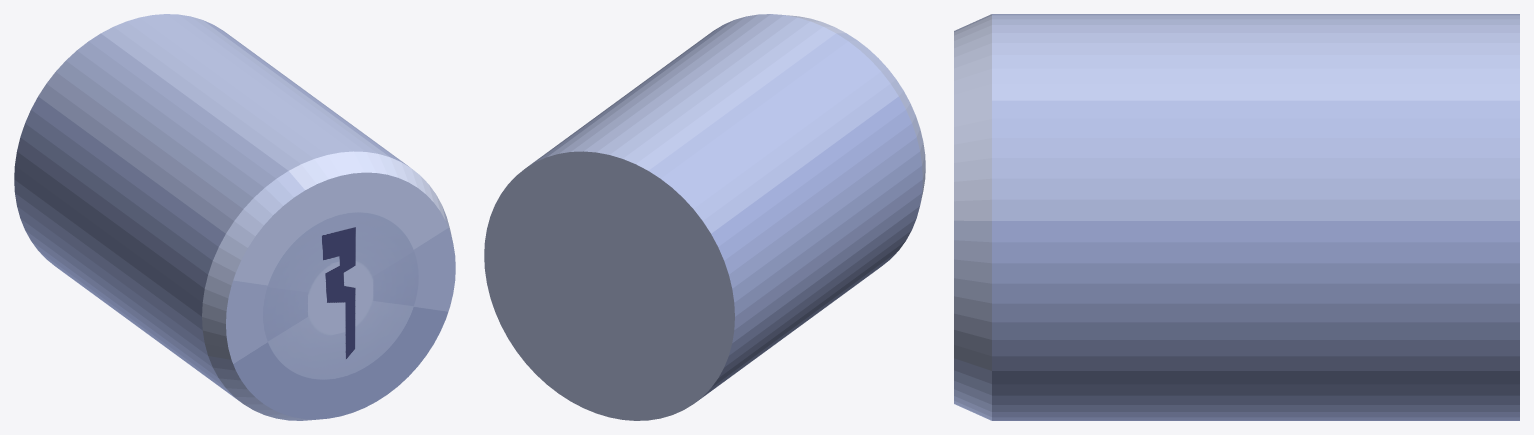
Rendered from LockInner.fbx.
3 views of the same model, side by side, from view 1: azimuth 30°, elevation 25°; view 2: azimuth 150°, elevation 25°; view 3: azimuth 270°, elevation 25° (orthographic). The views are drawn at different scales.
Parts seen in each view (by area): view 1: pCylinder34; view 2: pCylinder34; view 3: pCylinder34.
Part boxes in pixels (<box>): pCylinder34: <box>14,14,455,420</box>; pCylinder34: <box>484,14,925,420</box>; pCylinder34: <box>954,14,1519,420</box>.
Bounding box in the file's own units: 0.8775 × 0.8775 × 1.22.
